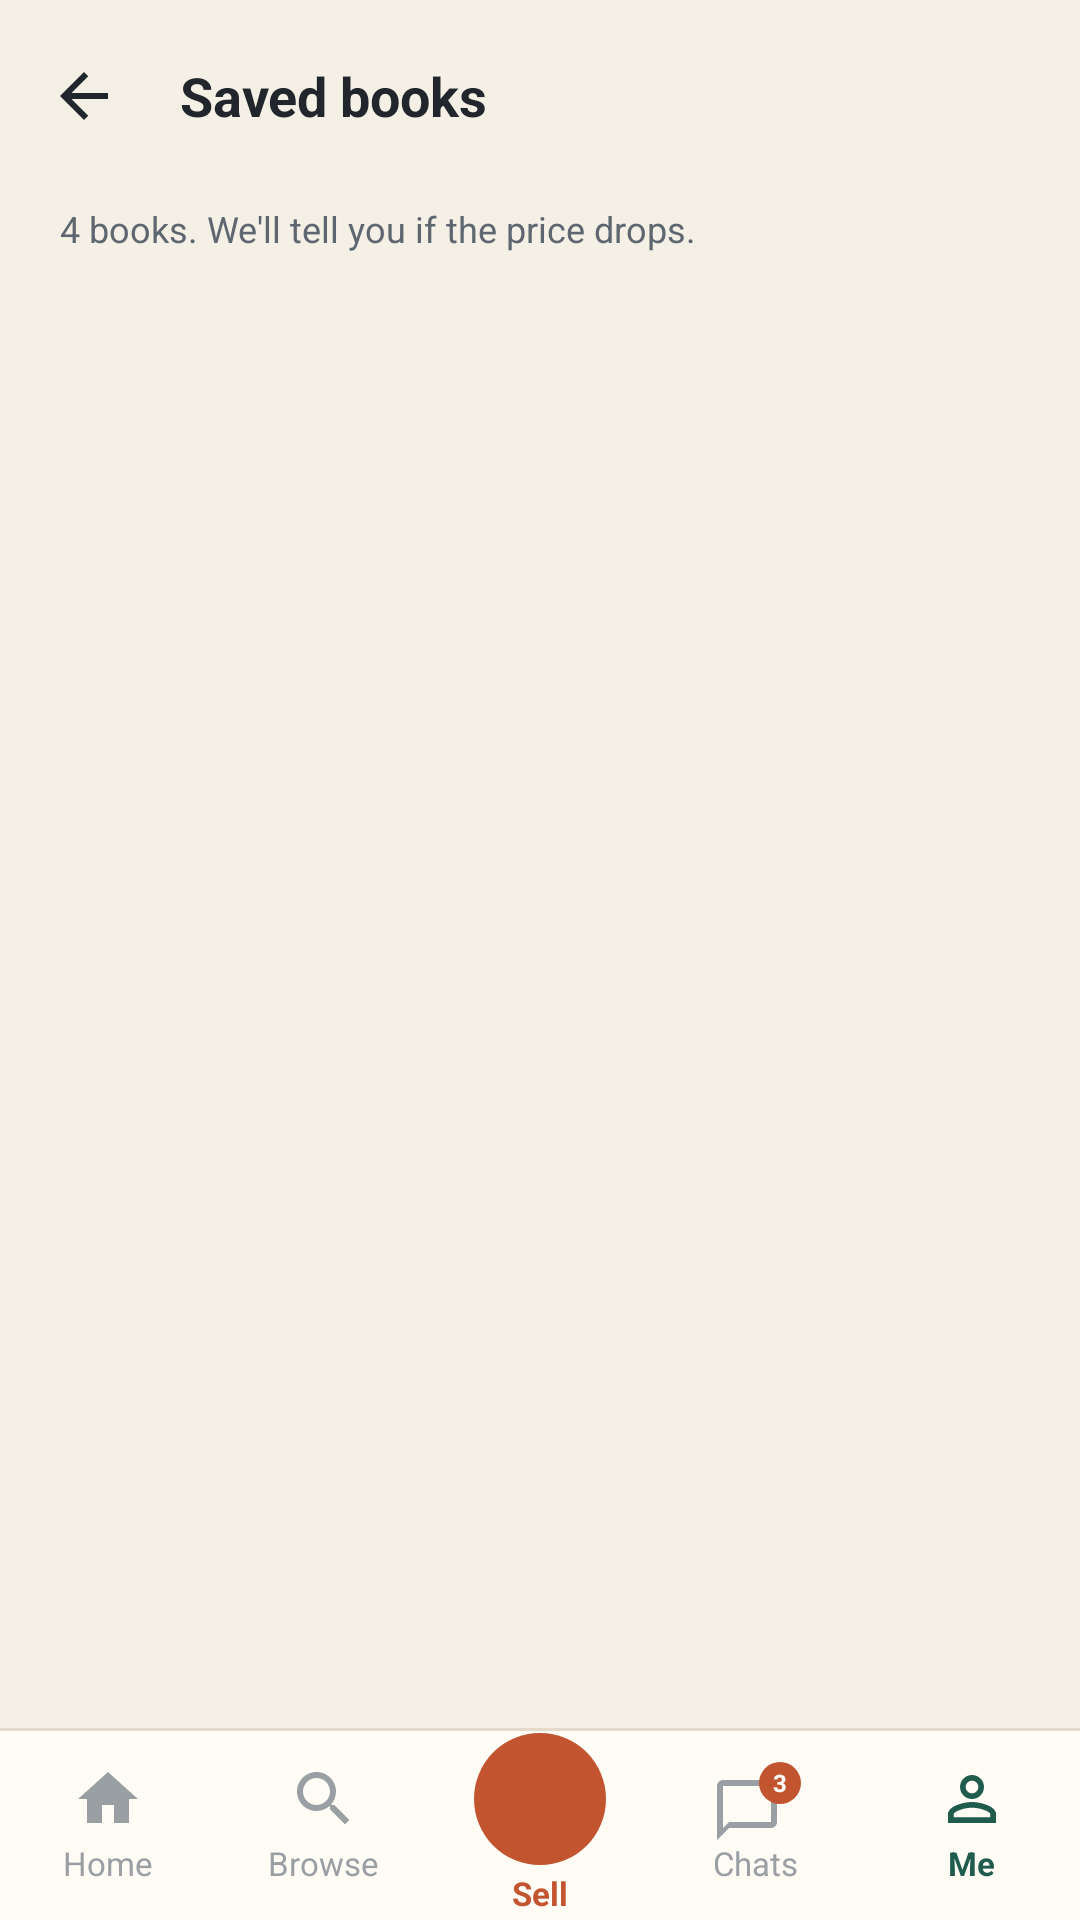

Where icons sit on this 1080*1920 app screen, as BBox(x1, y1, x2, y2):
person: BBox(948, 1775, 996, 1823)
search: BBox(297, 1772, 349, 1824)
